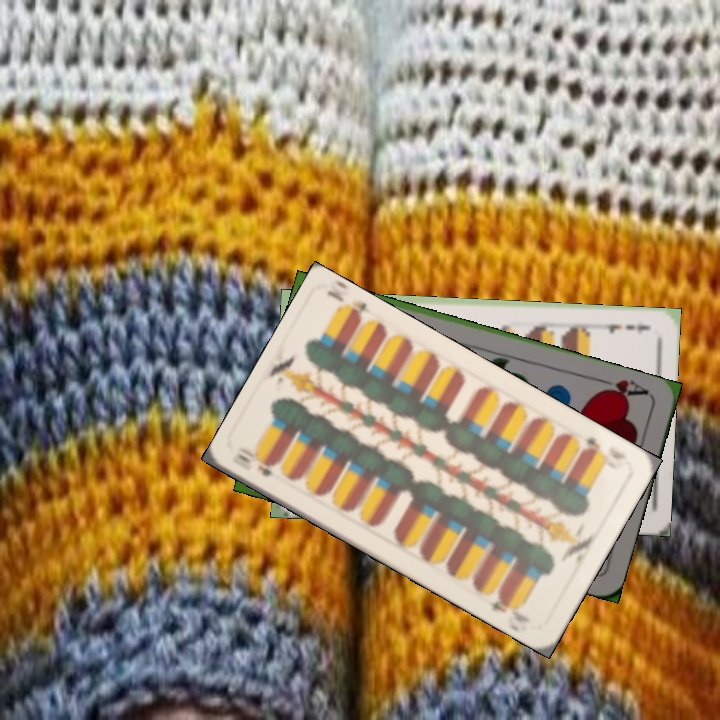E10: (233, 443, 277, 479), (578, 432, 612, 460)
E7: (595, 319, 654, 335)
HA: (594, 374, 652, 403)
